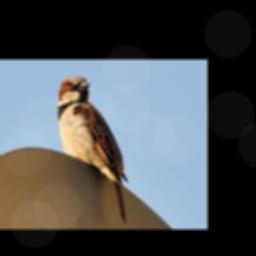Swallow: (55, 75, 127, 224)
